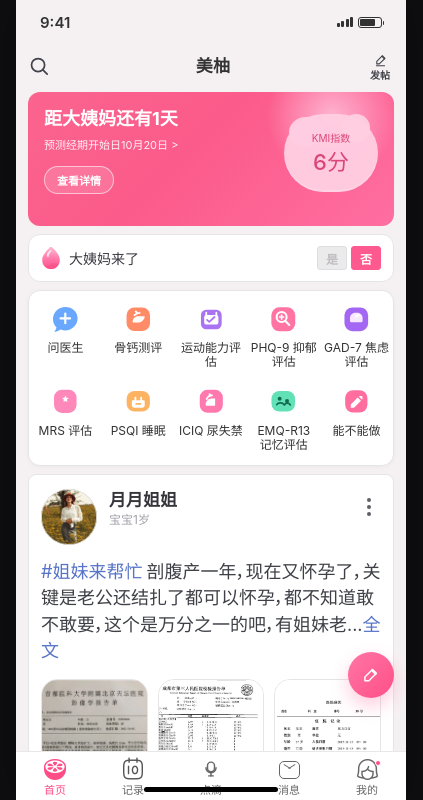
Test: scene1 ui › replaces the homepage weight entry with GAD-7 焦虑评估 and links it to the questionnaire
The image size is (423, 800).
Click the button "GAD-7 焦虑评估": [357, 333] box [320, 297, 393, 370]
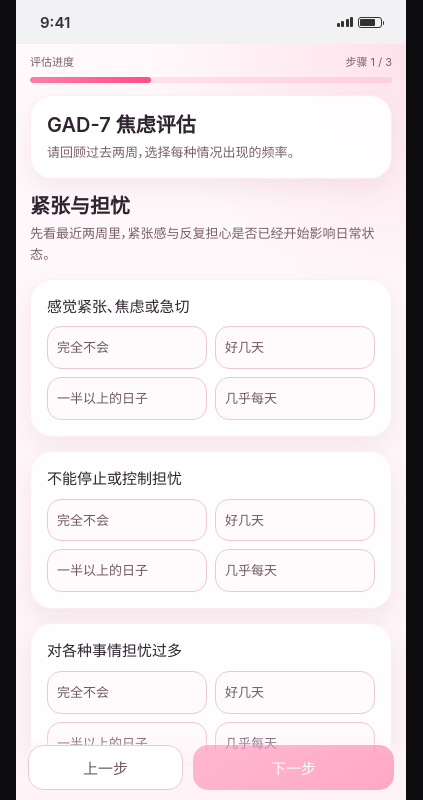
Check: the element with test id "scene1-gad7-assessment-route-shell" is shown
